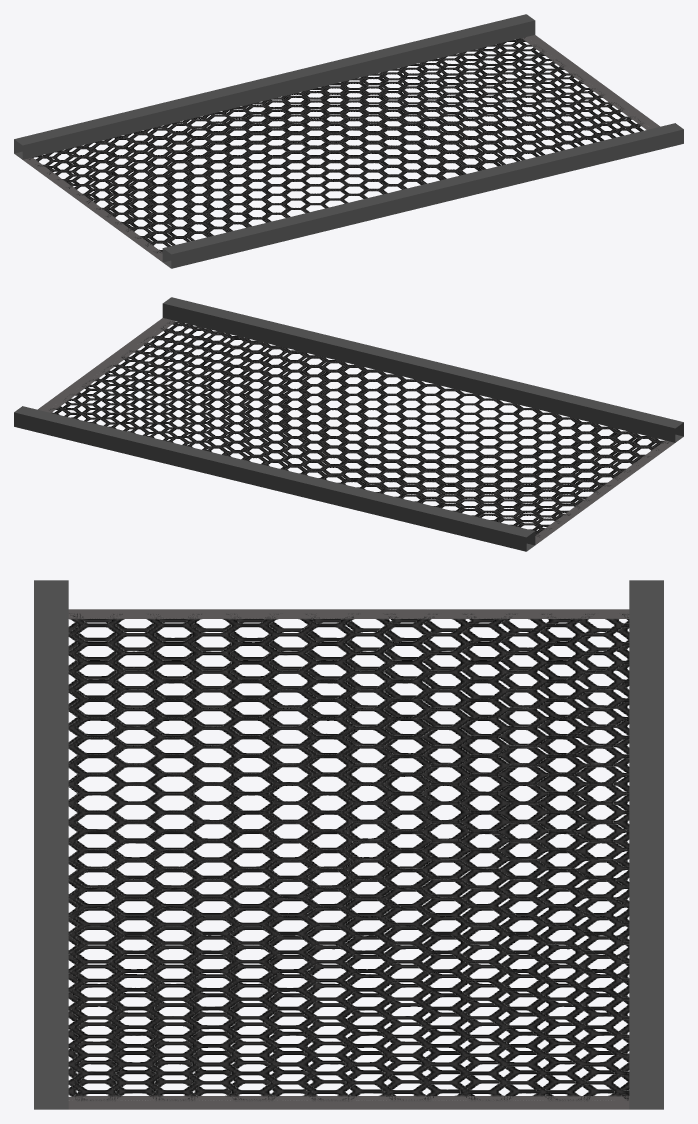
Rendered from catwalkk.fbx.
The picture shows the model from 3 angles, top to bottom: view 1: azimuth 30°, elevation 25°; view 2: azimuth 150°, elevation 25°; view 3: azimuth 270°, elevation 25°; orthographic projection. The views are drawn at different scales.
Parts seen in each view (by area): view 1: catwalk; view 2: catwalk; view 3: catwalk.
Part boxes in pixels (x1,y1,x2,y2): catwalk: [14, 14, 683, 268]; catwalk: [14, 297, 683, 551]; catwalk: [34, 580, 663, 1109].
Size of the model in its own units: 52.96 by 1.42 by 28.17.
